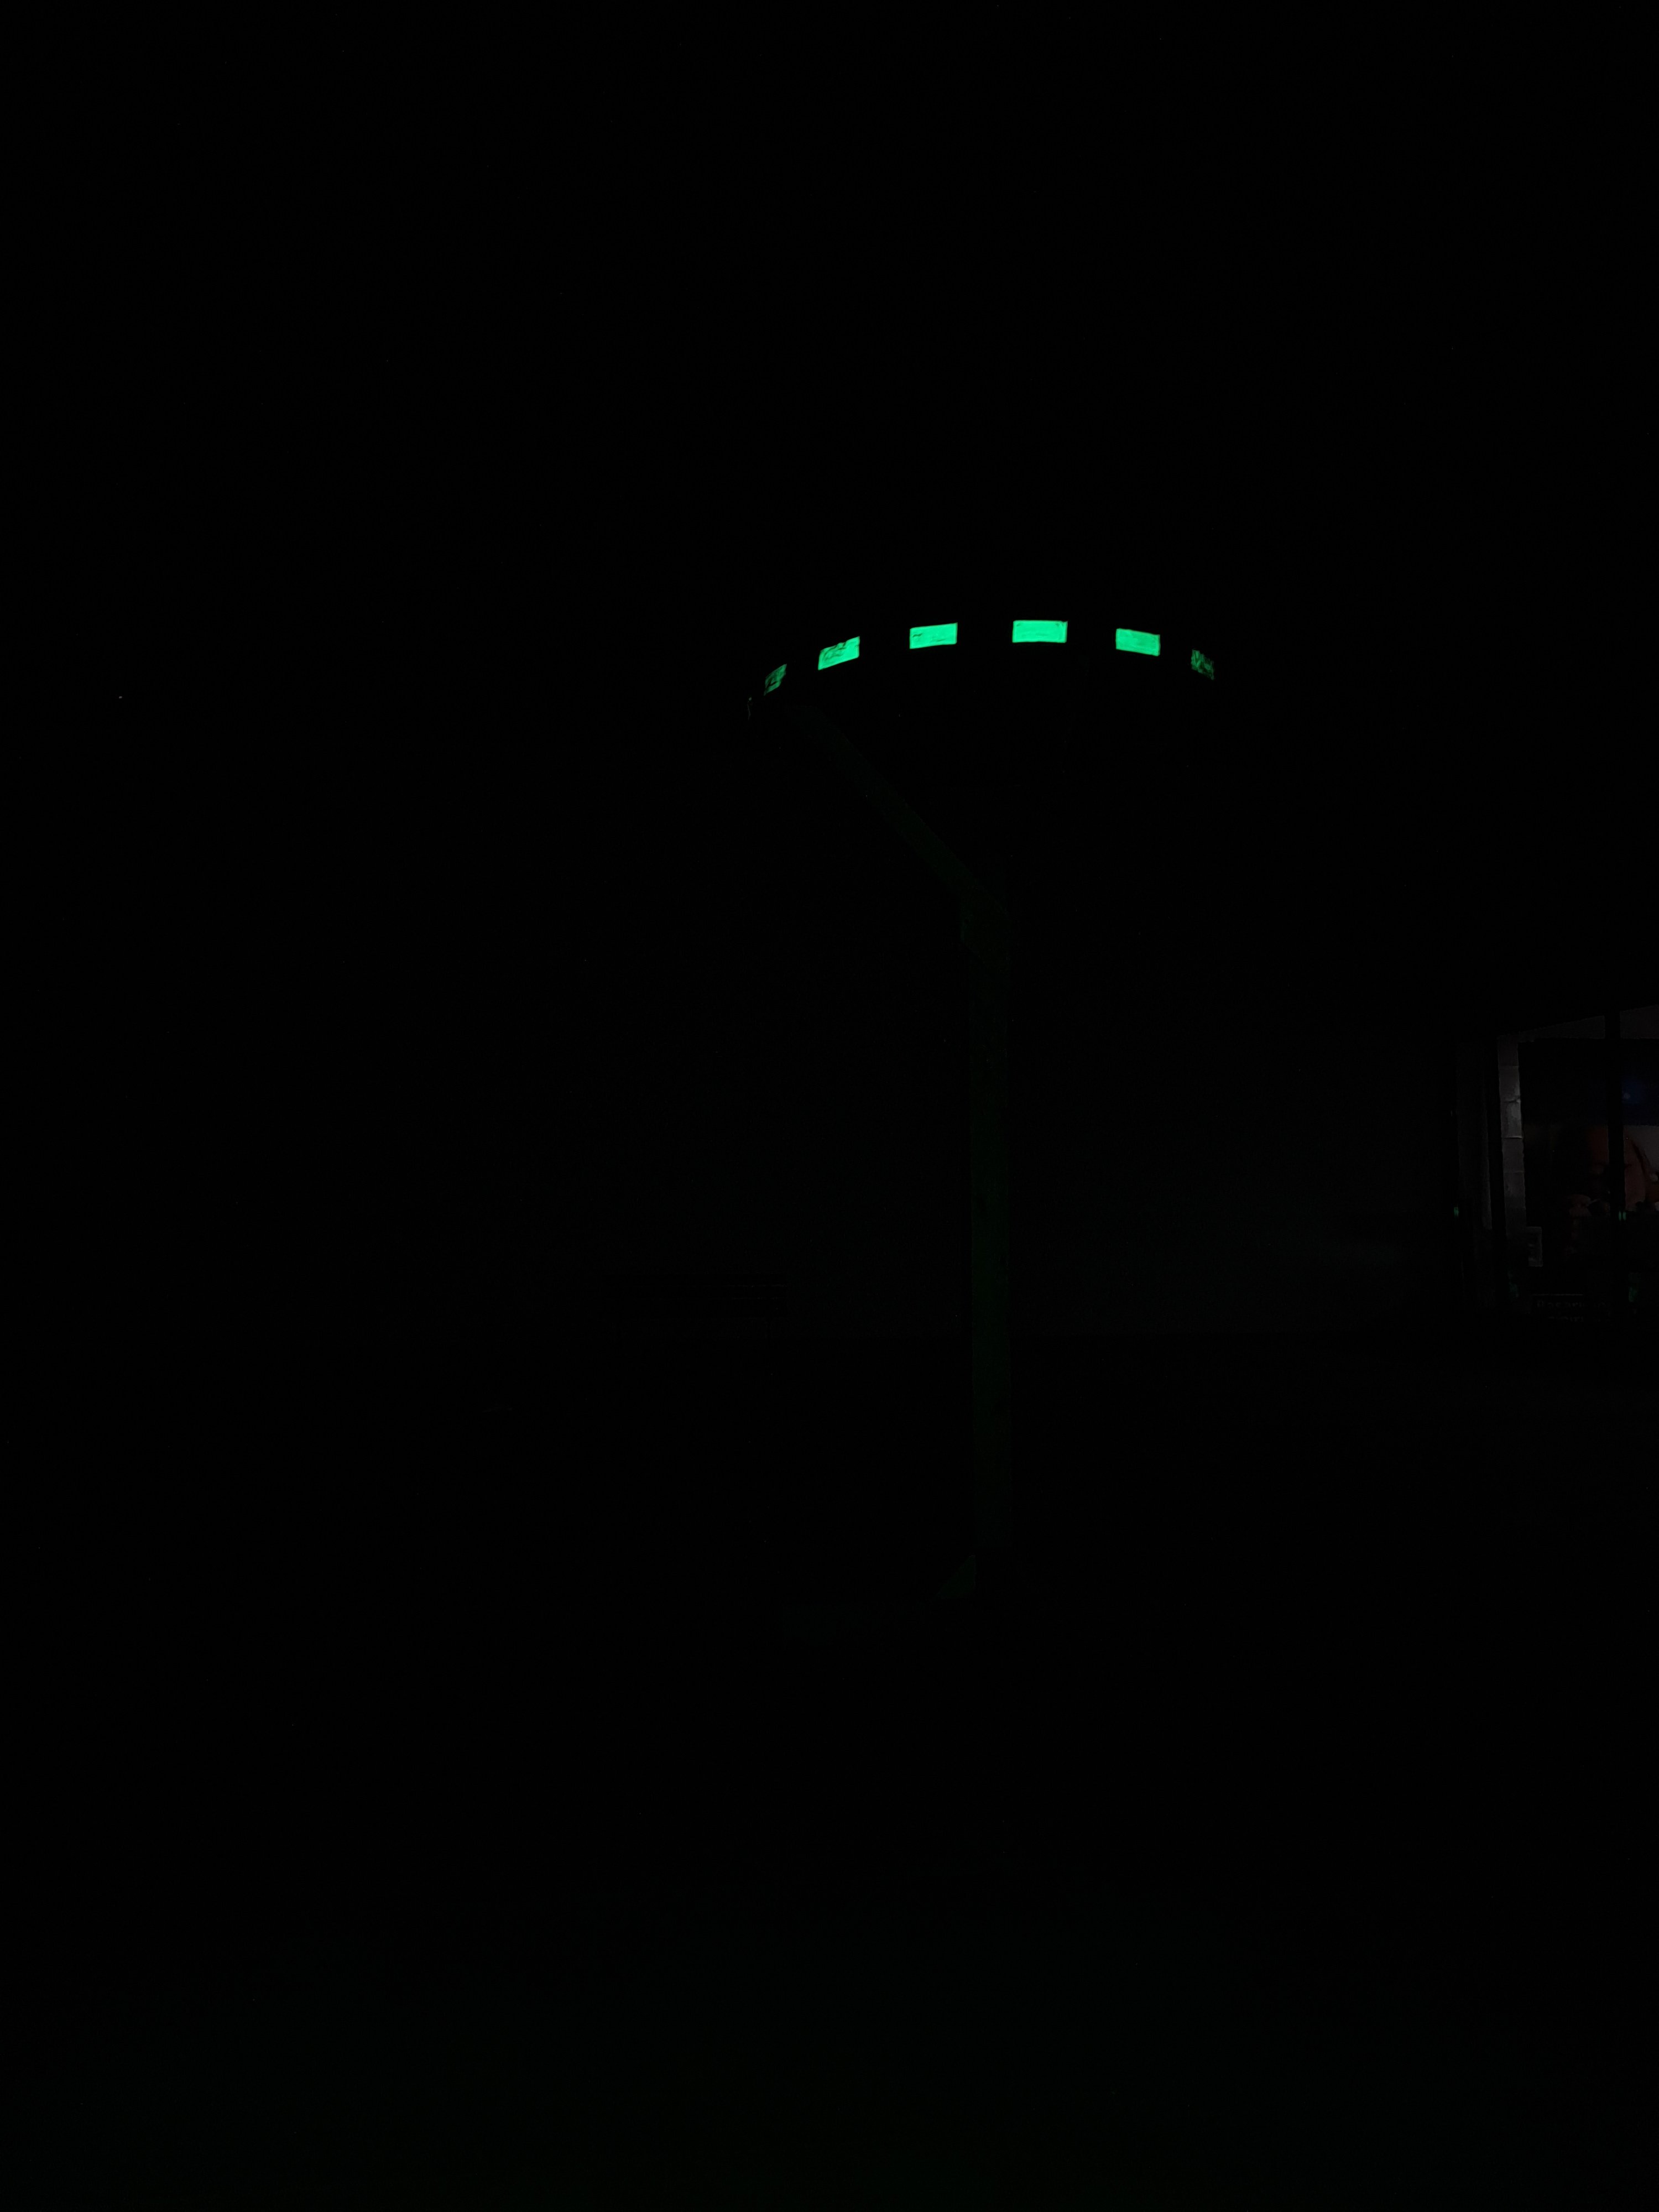hoop: (709, 585, 1276, 744)
